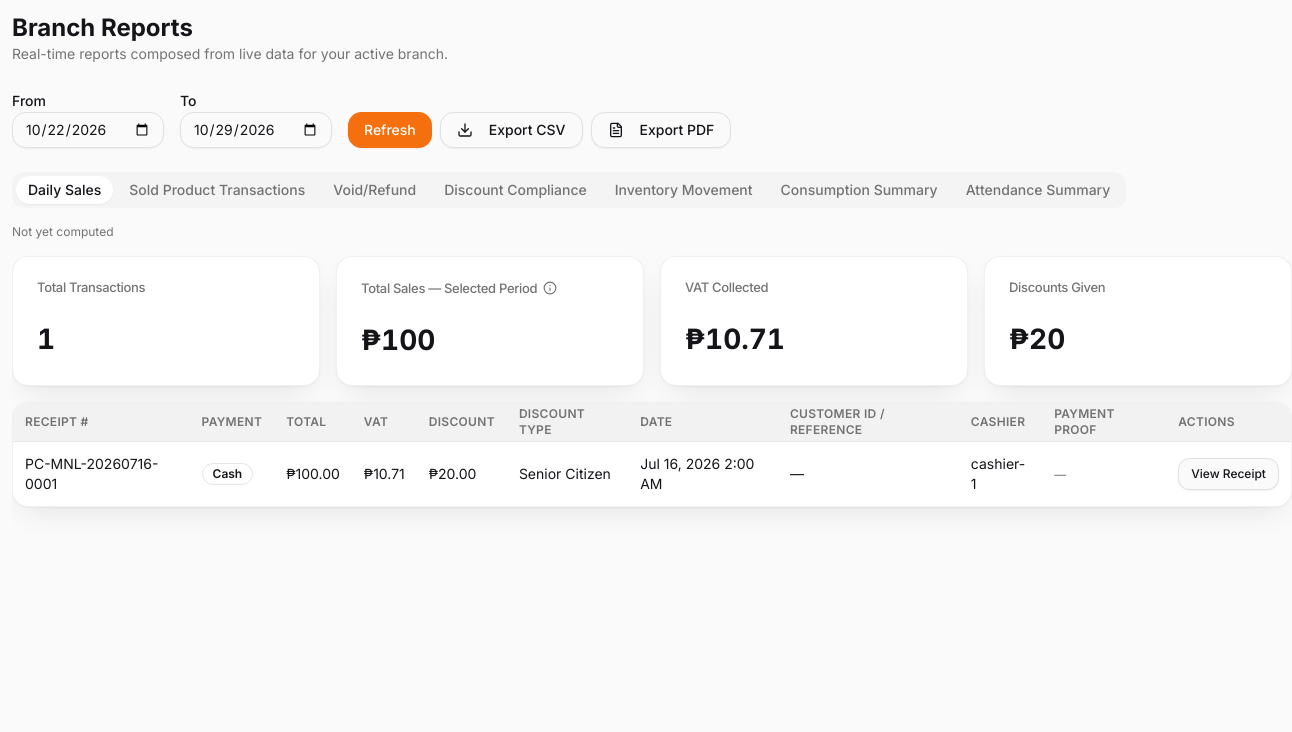
Scenario: SupervisorReportsPage › Discount Compliance — discount-proof viewing (Task 209.5) › shows a plain "No" instead of a View Proof button when has_discount_proof is false
Press the mouse on the tab "Discount Compliance": (516, 190) [432,176,599,204]
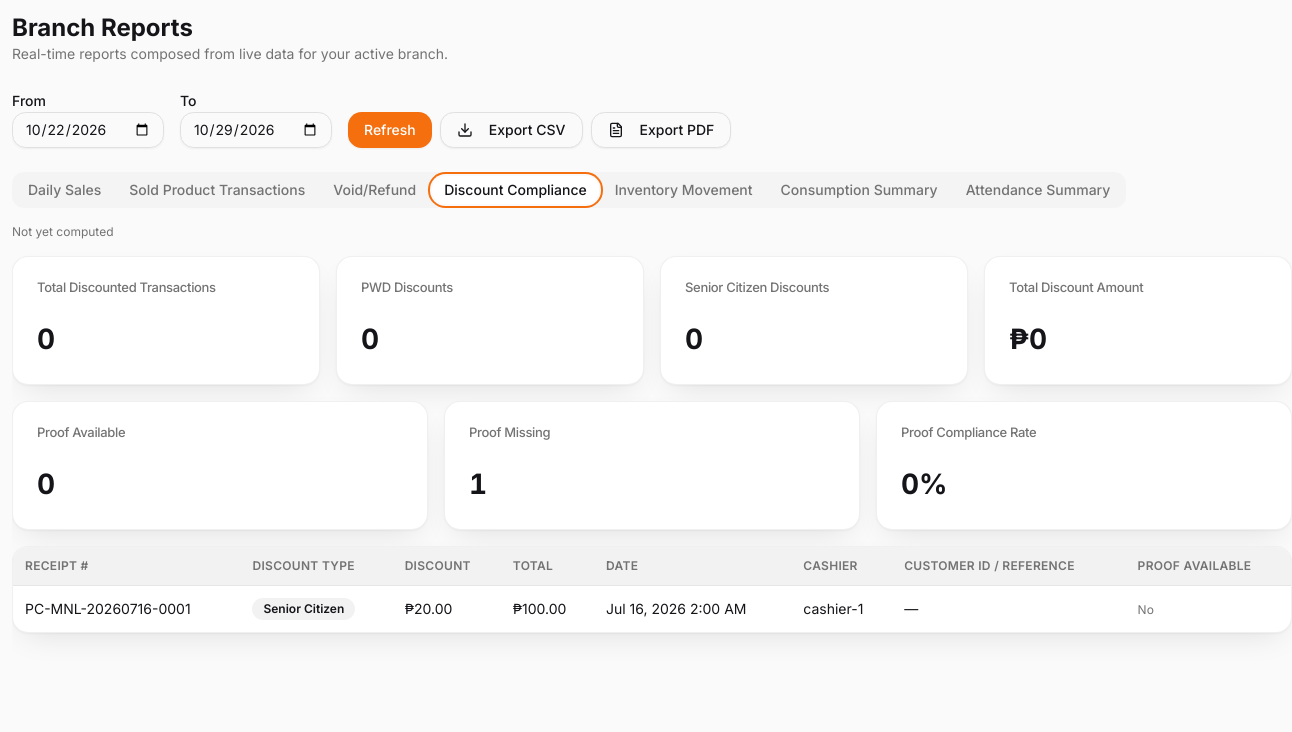
Expected: the text "No" is shown, [1138,602,1154,616]
